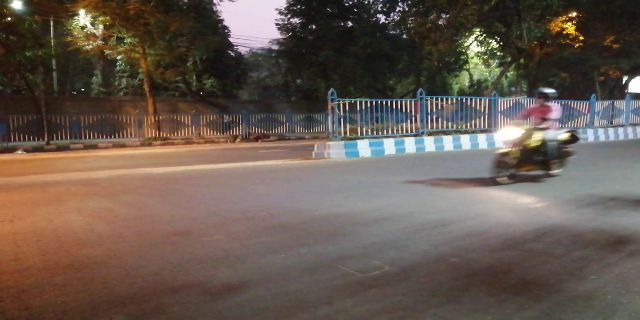Motorbike: (482, 87, 584, 186)
